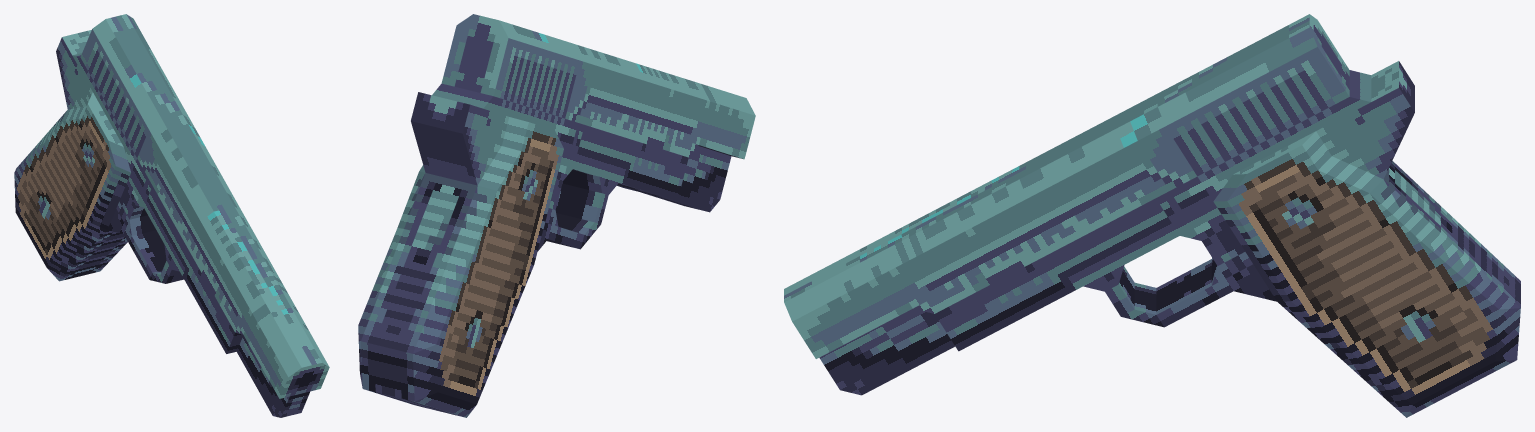
The model's file is DoomGun1.glb.
3 views of the same model, side by side, from view 1: azimuth 30°, elevation 25°; view 2: azimuth 150°, elevation 25°; view 3: azimuth 270°, elevation 25° (orthographic). The views are drawn at different scales.
Parts seen in each view (by area): view 1: Object_2; view 2: Object_2; view 3: Object_2.
Part boxes in pixels (<box>): Object_2: <box>14,14,329,417</box>; Object_2: <box>358,14,755,417</box>; Object_2: <box>784,14,1520,417</box>.
Size of the model in its own units: 0.15 by 0.6629 by 1.15.
1 material, 1 textured.
